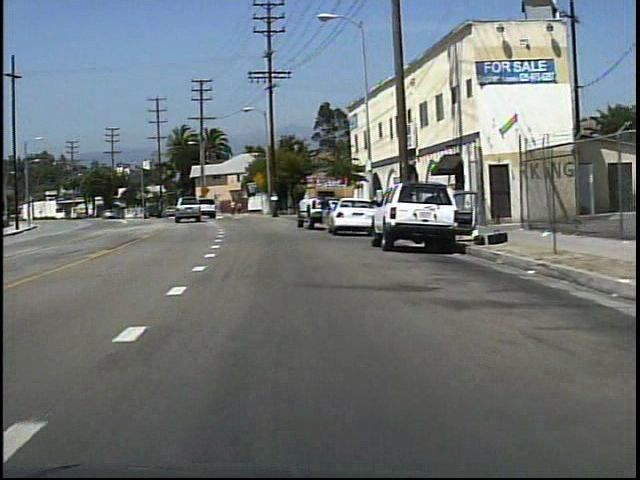person: (317, 190, 337, 235), (230, 198, 240, 219), (236, 200, 245, 217)
